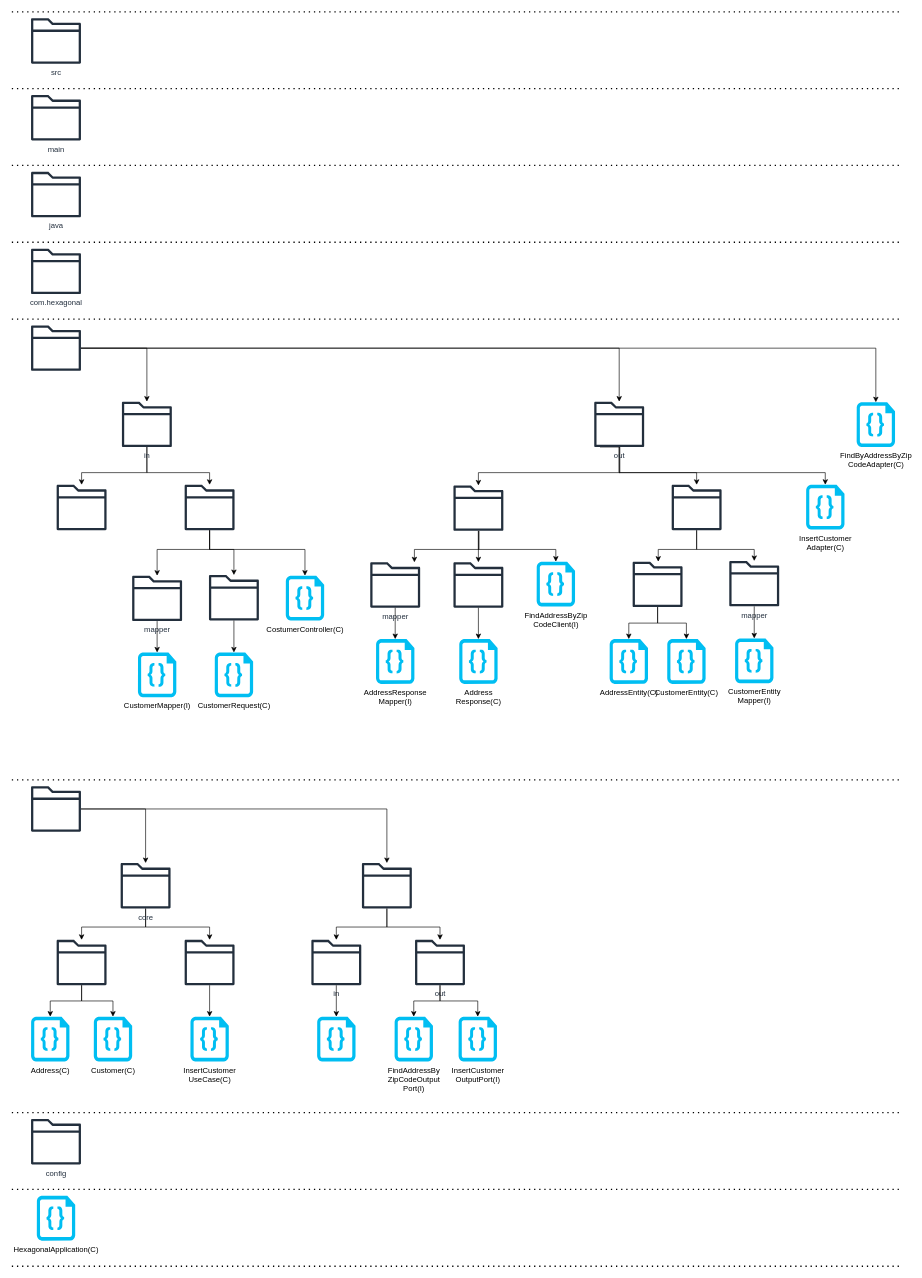
Image size: 922x1278. Some labels were removed from this diagram. Each missing label, with the centre of its shape:
"adapters" belongs at pixel 56 348.
"application" belongs at pixel 56 808.
"client" belongs at pixel 478 508.
"consumer" belongs at pixel 81 507.
"controller" belongs at pixel 209 507.
"domain" belongs at pixel 81 962.
"entity" belongs at pixel 657 584.
"InsertCustomerInput Port(I)" belongs at pixel 336 1038.
"ports" belongs at pixel 387 885.
"repository" belongs at pixel 696 507.
"request" belongs at pixel 234 597.
"response" belongs at pixel 478 584.
"usecase" belongs at pixel 209 962.
